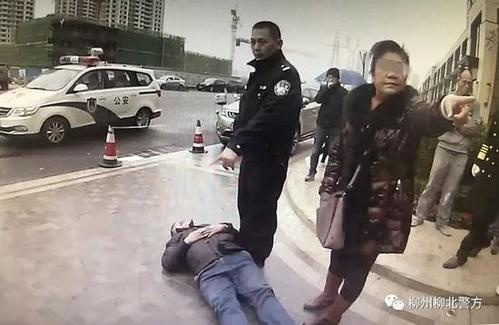falling: (153, 208, 333, 322)
